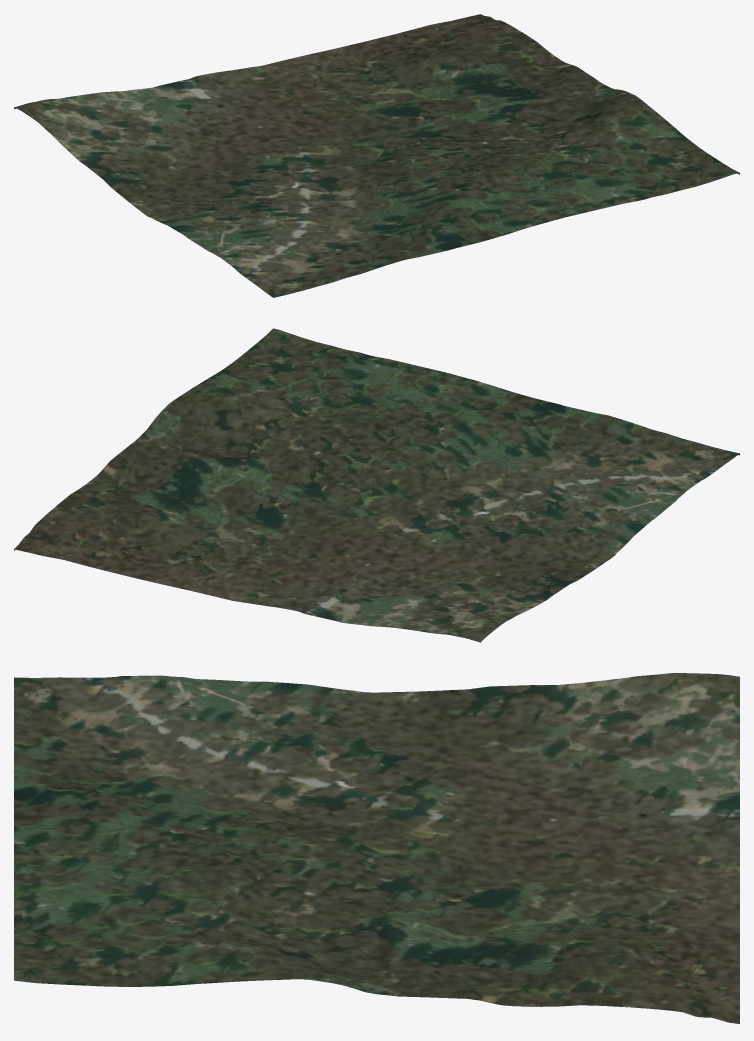
The picture shows the model from 3 angles, top to bottom: view 1: azimuth 30°, elevation 25°; view 2: azimuth 150°, elevation 25°; view 3: azimuth 270°, elevation 25°; orthographic projection. The views are drawn at different scales.
Size of the model in its own units: 250 by 17.84 by 241.
Materials: 1 (1 with a texture image).
